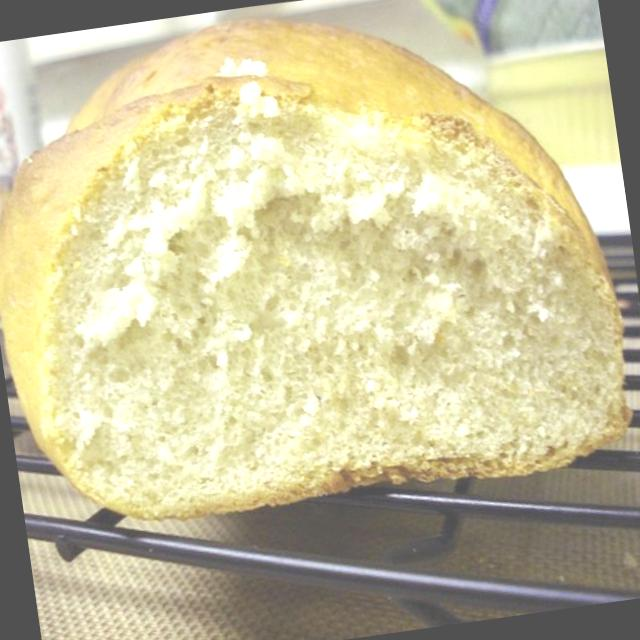Bread: (0, 0, 635, 547)
